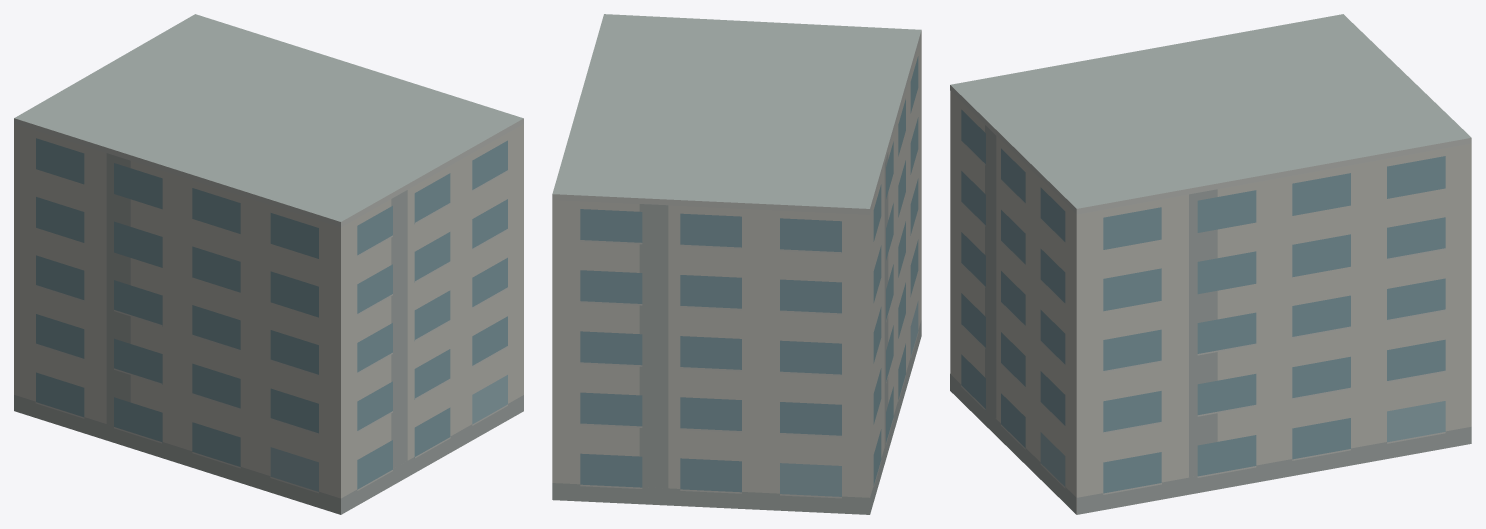
The model's file is survey-upis-32892530.glb.
3 renders of one model, left to right at view 1: azimuth 30°, elevation 25°; view 2: azimuth 150°, elevation 25°; view 3: azimuth 270°, elevation 25°, orthographic. The views are drawn at different scales.
Visible parts, largest first — view 1: survey-upis-32892530.tmp; view 2: survey-upis-32892530.tmp; view 3: survey-upis-32892530.tmp.
Boxes of the visible parts, x1,y1,x2,y2 form: survey-upis-32892530.tmp: [14, 14, 523, 514]; survey-upis-32892530.tmp: [552, 14, 921, 514]; survey-upis-32892530.tmp: [950, 14, 1471, 514].
Bounding box in the file's own units: 17.76 × 13 × 20.09.
